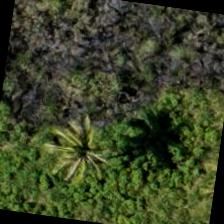Kelapa_Sawit: (29, 101, 131, 203)
